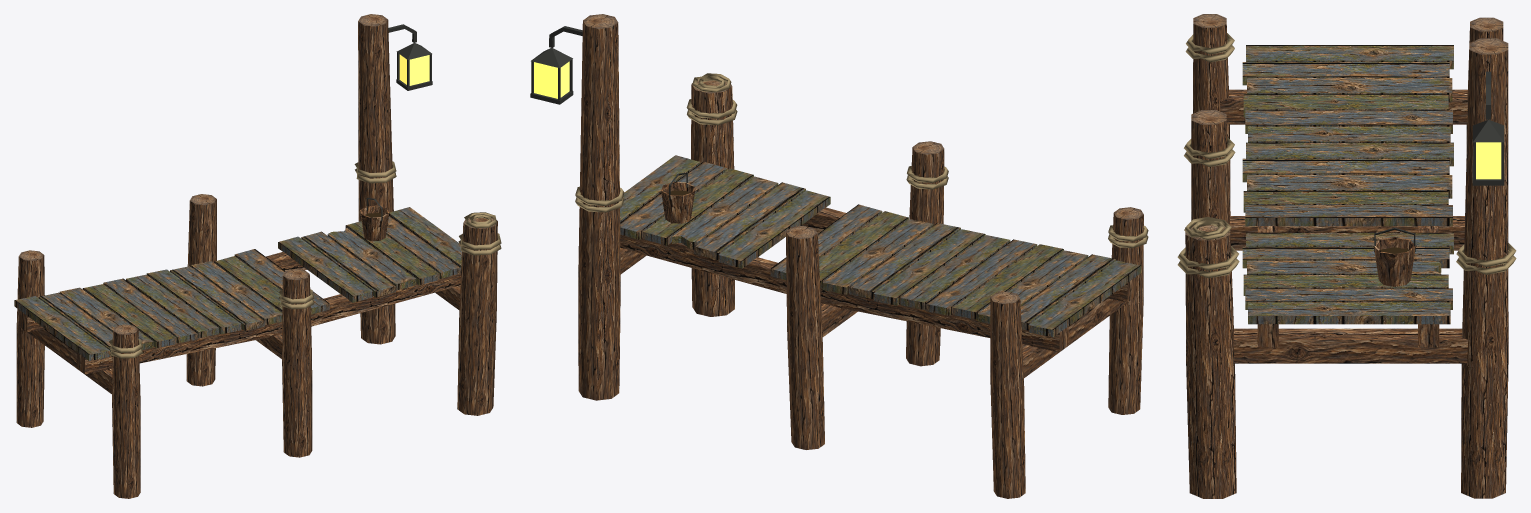
Rendered from lake01-jetty.glb.
3 views of the same model, side by side, from view 1: azimuth 30°, elevation 25°; view 2: azimuth 150°, elevation 25°; view 3: azimuth 270°, elevation 25° (orthographic). The views are drawn at different scales.
Parts seen in each view (by area): view 1: piles, deck, stringers, ropes, crossbeams, lanternhw, bucket, lantern; view 2: piles, deck, stringers, ropes, crossbeams, lanternhw, bucket, lantern; view 3: deck, piles, crossbeams, ropes, bucket, lanternhw, stringers, lantern.
Boxes of the visible parts, bbox=[...] form: piles: bbox=[16, 14, 497, 498]; deck: bbox=[14, 207, 461, 360]; stringers: bbox=[19, 252, 460, 374]; ropes: bbox=[109, 161, 501, 358]; crossbeams: bbox=[27, 285, 460, 393]; lanternhw: bbox=[388, 24, 432, 90]; bucket: bbox=[360, 205, 389, 241]; lantern: bbox=[399, 54, 429, 85]; piles: bbox=[578, 14, 1143, 498]; deck: bbox=[620, 155, 1141, 337]; stringers: bbox=[620, 207, 1136, 351]; ropes: bbox=[575, 73, 1148, 248]; crossbeams: bbox=[620, 248, 1127, 377]; lanternhw: bbox=[530, 26, 582, 104]; bucket: bbox=[661, 181, 695, 223]; lantern: bbox=[534, 61, 569, 98]; deck: bbox=[1242, 45, 1453, 324]; piles: bbox=[1185, 14, 1508, 498]; crossbeams: bbox=[1220, 89, 1467, 363]; ropes: bbox=[1177, 33, 1516, 278]; bucket: bbox=[1373, 237, 1415, 286]; lanternhw: bbox=[1472, 71, 1504, 185]; stringers: bbox=[1257, 226, 1439, 347]; lantern: bbox=[1476, 142, 1501, 179].
Size of the model in its own units: 3.24 by 2.3 by 1.61.
7 materials, 3 textured.
